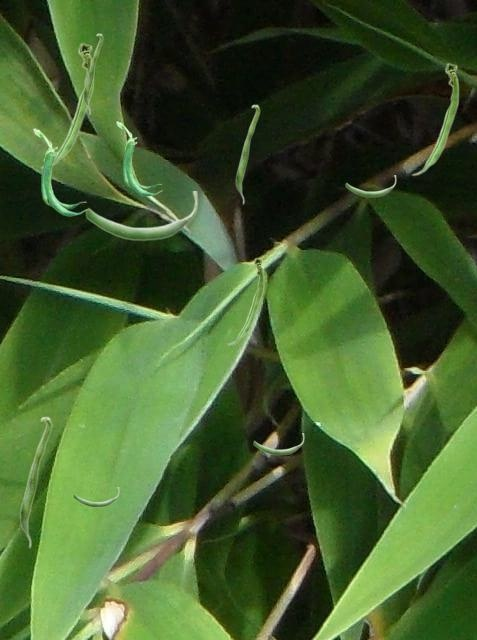french_bean: (40, 42, 93, 168), (85, 191, 197, 240), (411, 62, 458, 175), (33, 128, 86, 215), (19, 416, 51, 548), (116, 121, 161, 195), (227, 257, 263, 344), (235, 104, 259, 204), (83, 33, 102, 114), (253, 433, 303, 454), (345, 175, 395, 196), (73, 487, 118, 506)
